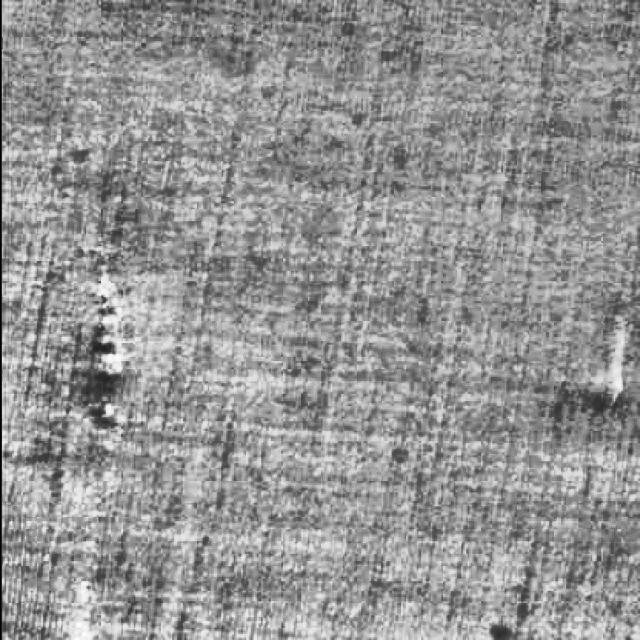thread_error: (52, 228, 134, 640), (594, 285, 640, 412)
